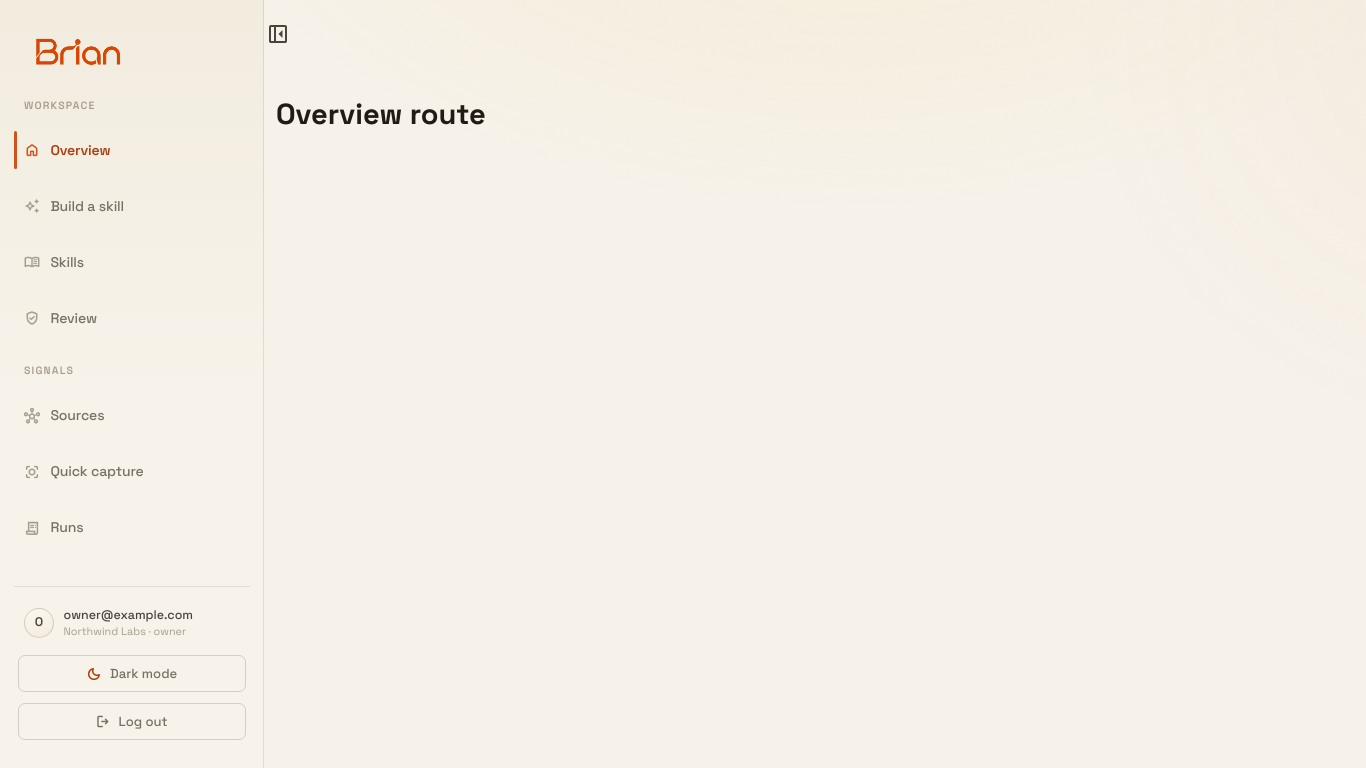
it: toggles the desktop sidebar and exposes its current state
Click the button named "Hide sidebar" at (278, 34), box x1=260 y1=16 x2=296 y2=52
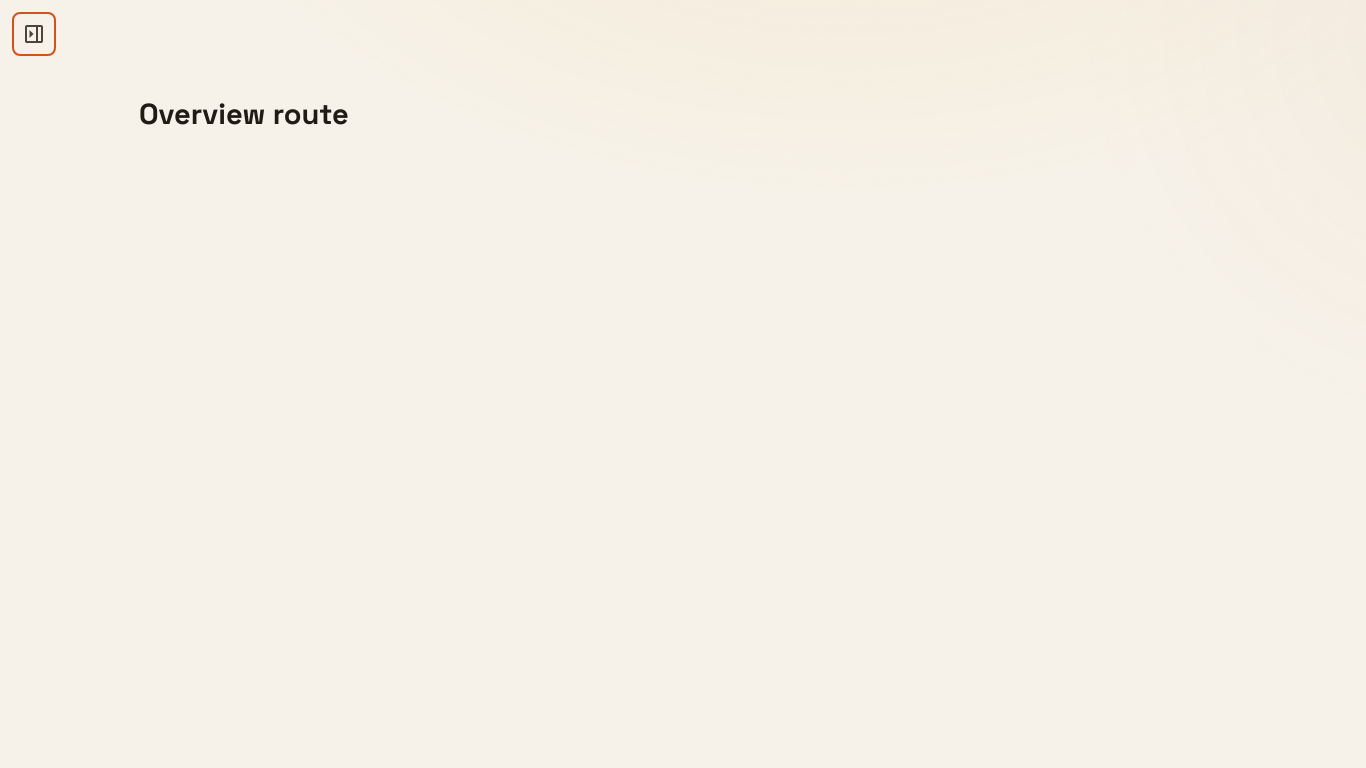
Expected: the button named "Show sidebar" is collapsed, x1=16 y1=16 x2=52 y2=52
